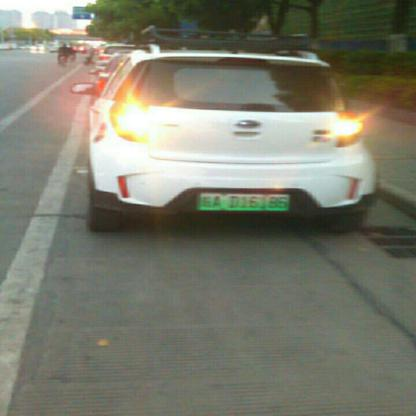lp: (198, 191, 292, 210)
